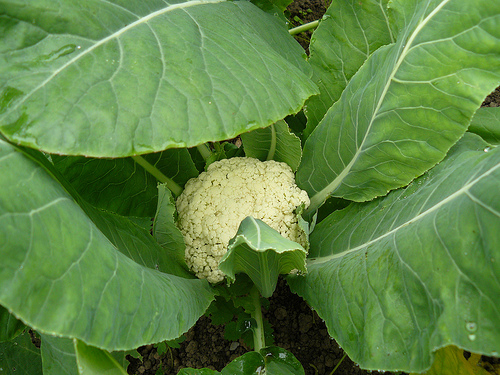cauliflower: (169, 151, 308, 282)
